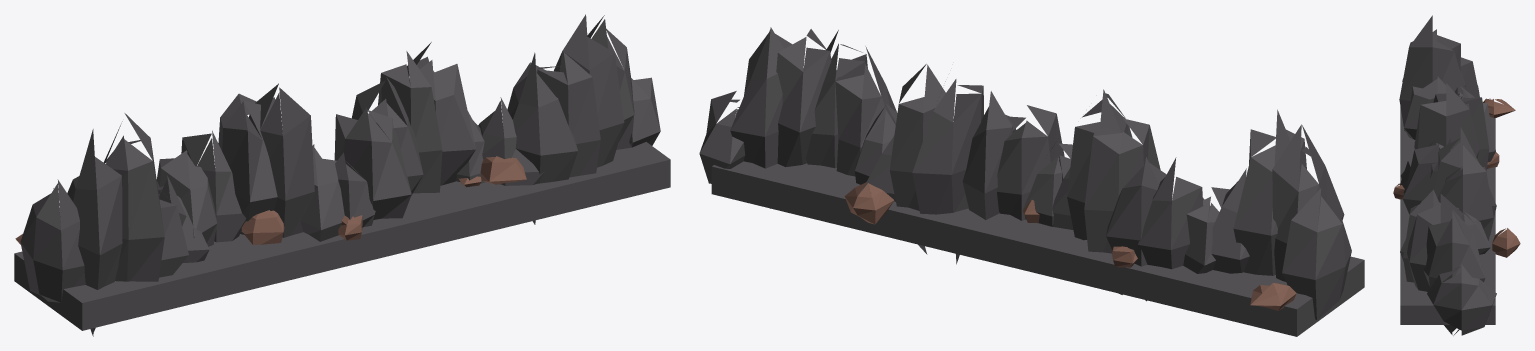
File: volcano-and-lava-fields-volcano-and-lava-fields-spatte-d883b61c__37458.glb
3 views of the same model, side by side, from view 1: azimuth 30°, elevation 25°; view 2: azimuth 150°, elevation 25°; view 3: azimuth 270°, elevation 25° (orthographic). The views are drawn at different scales.
Parts seen in each view (by area): view 1: volcano-and-lava-fields-spatter-rampart; view 2: volcano-and-lava-fields-spatter-rampart; view 3: volcano-and-lava-fields-spatter-rampart.
Part boxes in pixels (bbox=[...]): volcano-and-lava-fields-spatter-rampart: bbox=[14, 14, 670, 336]; volcano-and-lava-fields-spatter-rampart: bbox=[699, 27, 1364, 336]; volcano-and-lava-fields-spatter-rampart: bbox=[1393, 15, 1520, 335].
Bounding box in the file's own units: 3.34 × 1.12 × 0.8288.
2 materials, 1 textured.
